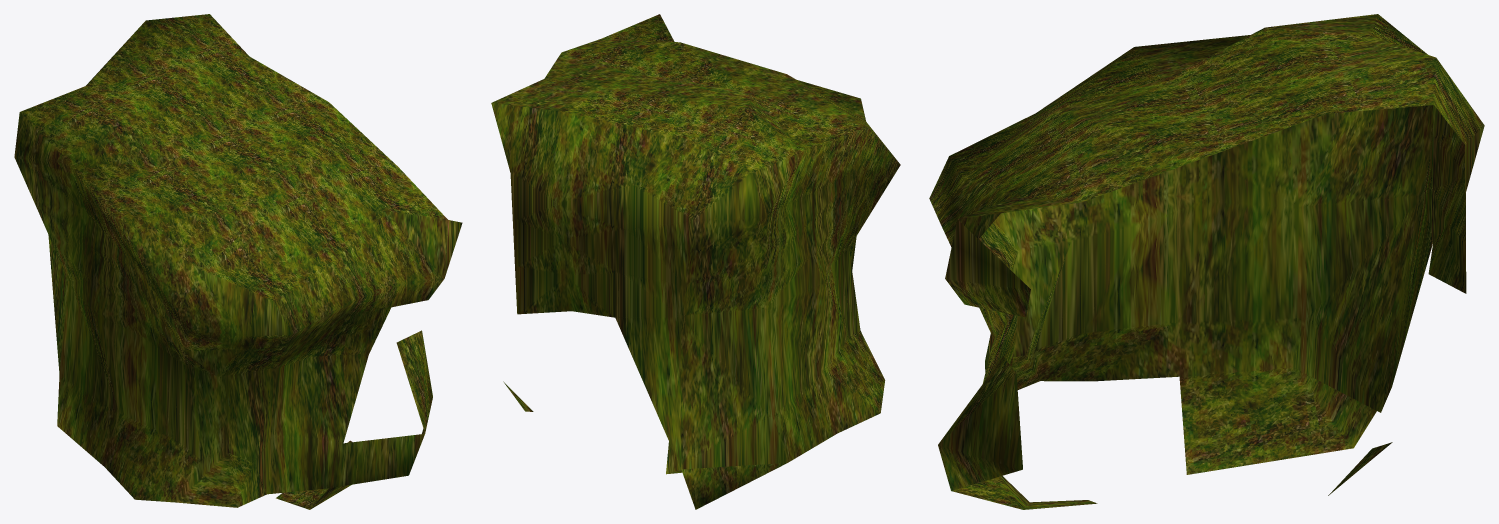
Rendered from TROLLHOLE02_RM_PSURF134.fbx.
The picture shows the model from 3 angles, left to right: view 1: azimuth 30°, elevation 25°; view 2: azimuth 150°, elevation 25°; view 3: azimuth 270°, elevation 25°; orthographic projection. The views are drawn at different scales.
Visible parts, largest first — view 1: TROLLHOLE02_RM_PSURF134; view 2: TROLLHOLE02_RM_PSURF134; view 3: TROLLHOLE02_RM_PSURF134.
Boxes of the visible parts, x1,y1,x2,y2 form: TROLLHOLE02_RM_PSURF134: (14, 14, 462, 509); TROLLHOLE02_RM_PSURF134: (491, 14, 900, 509); TROLLHOLE02_RM_PSURF134: (929, 14, 1484, 509).
Size of the model in its own units: 70995 by 83935 by 90538.
Materials: 1 (1 with a texture image).
